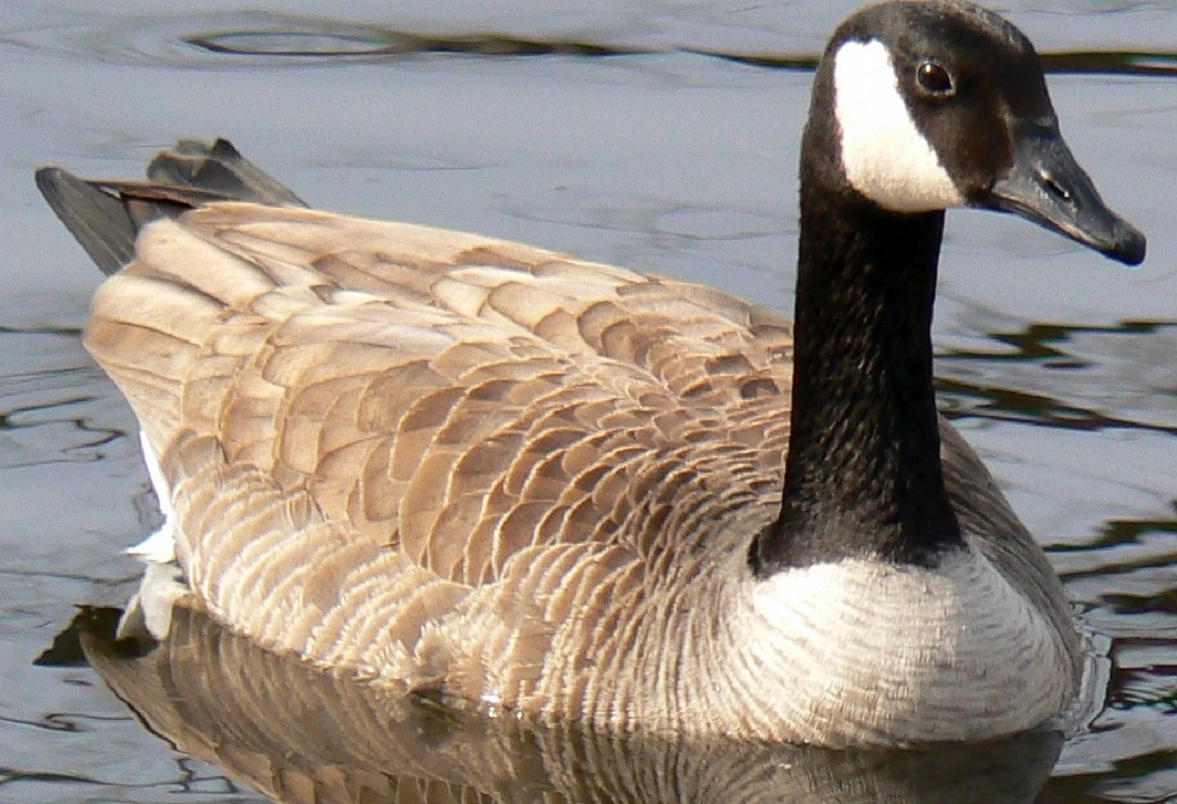goose: (22, 1, 1164, 769)
